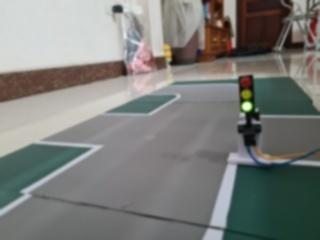green: (232, 70, 265, 125)
